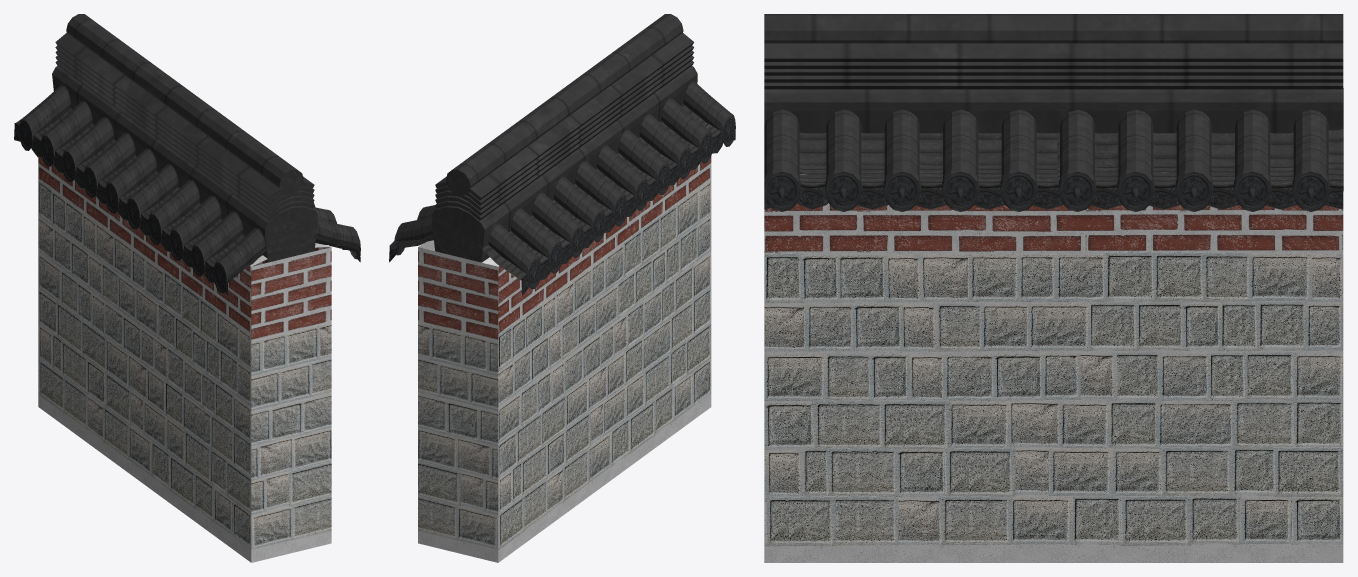
Rendered from SM_DG_HG_StoneWallH_Splines_11.fbx.
3 views of the same model, side by side, from view 1: azimuth 30°, elevation 25°; view 2: azimuth 150°, elevation 25°; view 3: azimuth 270°, elevation 25° (orthographic). The views are drawn at different scales.
Visible parts, largest first — view 1: SM_DG_HG_StoneWallH_Splines_11; view 2: SM_DG_HG_StoneWallH_Splines_11; view 3: SM_DG_HG_StoneWallH_Splines_11.
Boxes of the visible parts, x1,y1,x2,y2 form: SM_DG_HG_StoneWallH_Splines_11: [14, 14, 360, 562]; SM_DG_HG_StoneWallH_Splines_11: [389, 14, 735, 562]; SM_DG_HG_StoneWallH_Splines_11: [764, 14, 1343, 562].
Size of the model in its own units: 65.49 by 180 by 178.
